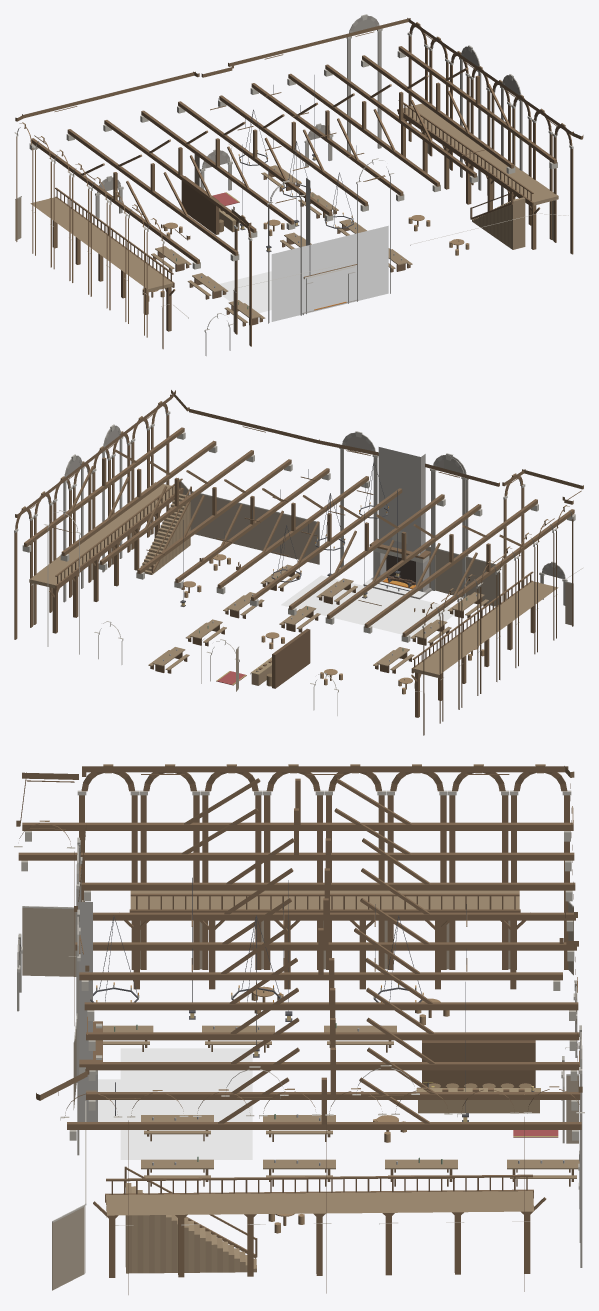
Rendered from interior_c03.glb.
The picture shows the model from 3 angles, top to bottom: view 1: azimuth 30°, elevation 25°; view 2: azimuth 150°, elevation 25°; view 3: azimuth 270°, elevation 25°; orthographic projection. The views are drawn at different scales.
Parts seen in each view (by area): view 1: Interior_C03_mesh, Interior_C03_FireplaceGlow; view 2: Interior_C03_mesh, Interior_C03_FireplaceGlow; view 3: Interior_C03_mesh, Interior_C03_FireplaceGlow.
Boxes of the visible parts, <box> form: Interior_C03_mesh: <box>14,14,583,355</box>; Interior_C03_FireplaceGlow: <box>219,225,388,321</box>; Interior_C03_mesh: <box>14,390,583,735</box>; Interior_C03_FireplaceGlow: <box>281,575,454,638</box>; Interior_C03_mesh: <box>14,764,584,1294</box>; Interior_C03_FireplaceGlow: <box>98,1048,252,1159</box>.
Size of the model in its own units: 38.5 by 12.42 by 28.09.
